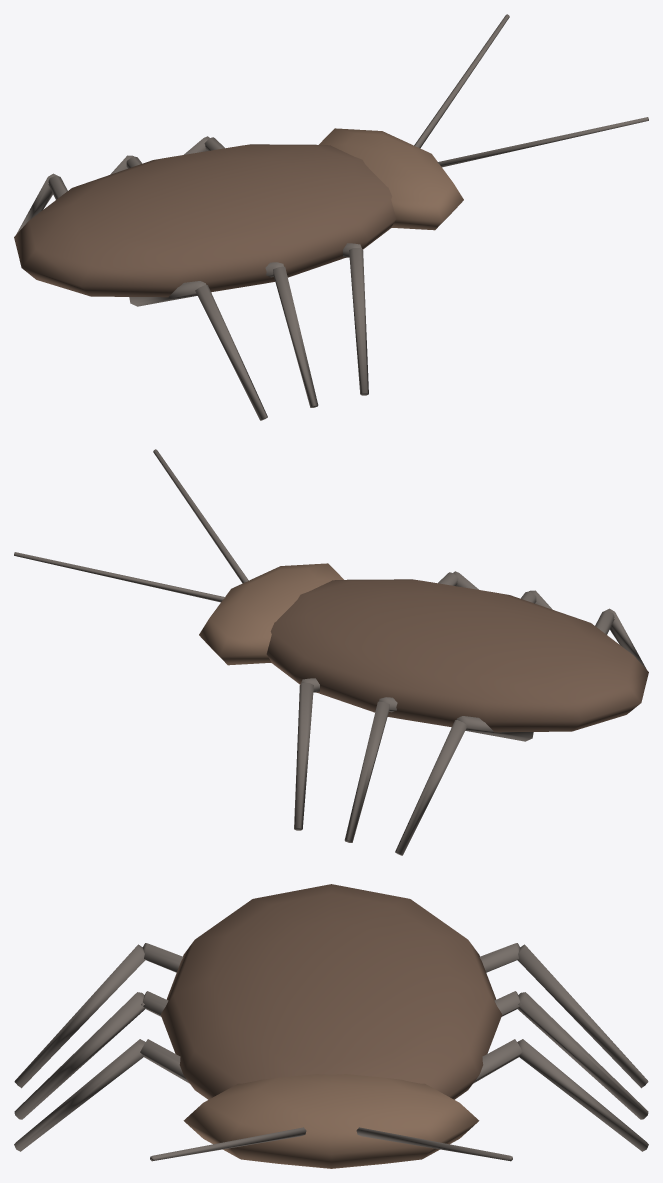
File: beetle-cockroach.glb
3 renders of one model, top to bottom at view 1: azimuth 30°, elevation 25°; view 2: azimuth 150°, elevation 25°; view 3: azimuth 270°, elevation 25°, orthographic. The views are drawn at different scales.
Parts seen in each view (by area): view 1: e; view 2: e; view 3: e.
Part boxes in pixels (left/top/right/bottom): e: left=14, top=14, right=648, bottom=420; e: left=14, top=449, right=648, bottom=855; e: left=14, top=884, right=648, bottom=1168.
Size of the model in its own units: 0.4329 by 0.1184 by 0.3346.
